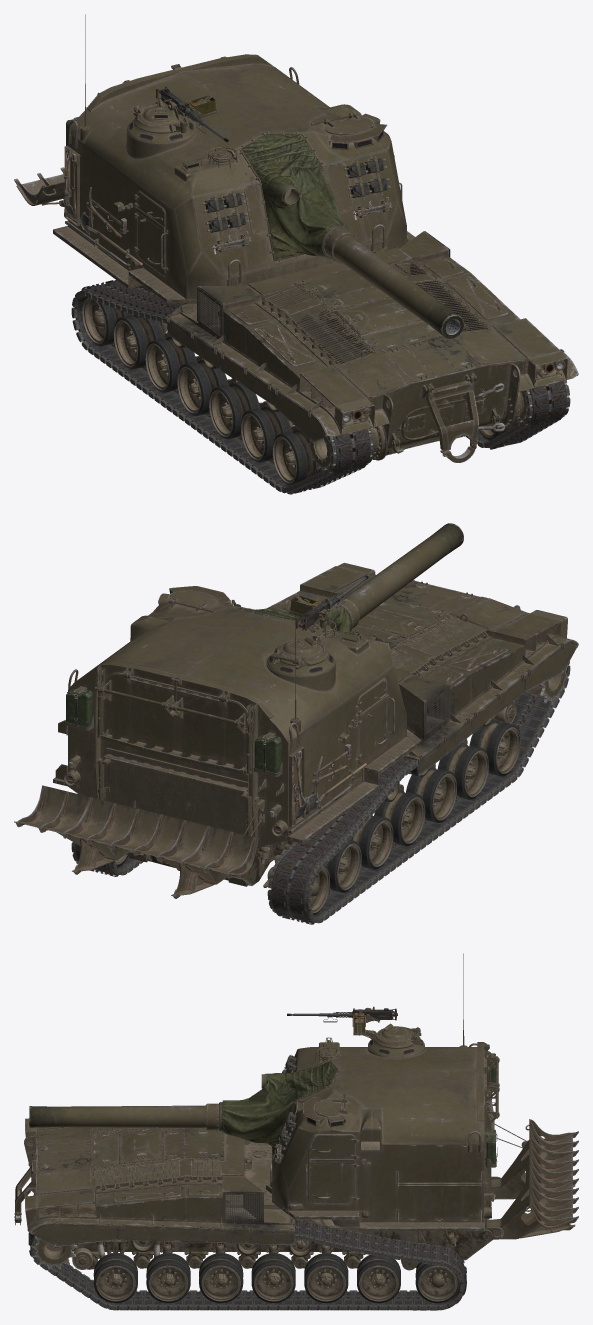
The model's file is m55_war_thunder_tusk_force.glb.
3 renders of one model, top to bottom at view 1: azimuth 30°, elevation 25°; view 2: azimuth 150°, elevation 25°; view 3: azimuth 270°, elevation 25°, orthographic. The views are drawn at different scales.
Parts seen in each view (by area): view 1: Object_17, Object_29, Object_26, Object_21, Object_5, Object_6, Object_23, Object_31, Object_32, Object_15, Object_27, Object_30 (+10 smaller); view 2: Object_17, Object_13, Object_25, Object_5, Object_21, Object_23, Object_26, Object_14, Object_29, Object_32, Object_20, Object_30 (+10 smaller); view 3: Object_17, Object_3, Object_29, Object_24, Object_26, Object_25, Object_23, Object_13, Object_19, Object_6, Object_22, Object_32 (+9 smaller).
Boxes of the visible parts, x1,y1,x2,y2 form: Object_17: [68, 54, 408, 303]; Object_29: [137, 231, 537, 460]; Object_26: [223, 256, 520, 462]; Object_21: [113, 315, 291, 462]; Object_5: [71, 280, 374, 494]; Object_6: [240, 133, 351, 260]; Object_23: [219, 347, 403, 453]; Object_31: [333, 325, 565, 426]; Object_32: [282, 187, 463, 338]; Object_15: [63, 145, 391, 268]; Object_27: [334, 279, 487, 351]; Object_30: [261, 261, 437, 364]; Object_17: [55, 586, 406, 848]; Object_13: [64, 589, 387, 836]; Object_25: [14, 712, 471, 898]; Object_5: [267, 661, 570, 924]; Object_21: [326, 743, 488, 892]; Object_23: [459, 610, 578, 734]; Object_26: [266, 581, 525, 718]; Object_14: [53, 623, 417, 843]; Object_29: [125, 581, 520, 886]; Object_32: [334, 523, 463, 628]; Object_20: [279, 664, 569, 915]; Object_30: [158, 613, 487, 863]; Object_17: [266, 1037, 495, 1227]; Object_3: [28, 1219, 466, 1310]; Object_29: [24, 1100, 503, 1264]; Object_24: [25, 1186, 294, 1246]; Object_26: [14, 1128, 223, 1225]; Object_25: [247, 1119, 578, 1239]; Object_23: [25, 1118, 348, 1302]; Object_13: [282, 1023, 499, 1219]; Object_19: [72, 1241, 424, 1302]; Object_6: [219, 1060, 338, 1157]; Object_22: [31, 1236, 459, 1302]; Object_32: [29, 1074, 304, 1130].
Bounding box in the file's own units: 3.63 × 4.43 × 8.43.
14 materials, 14 textured.
